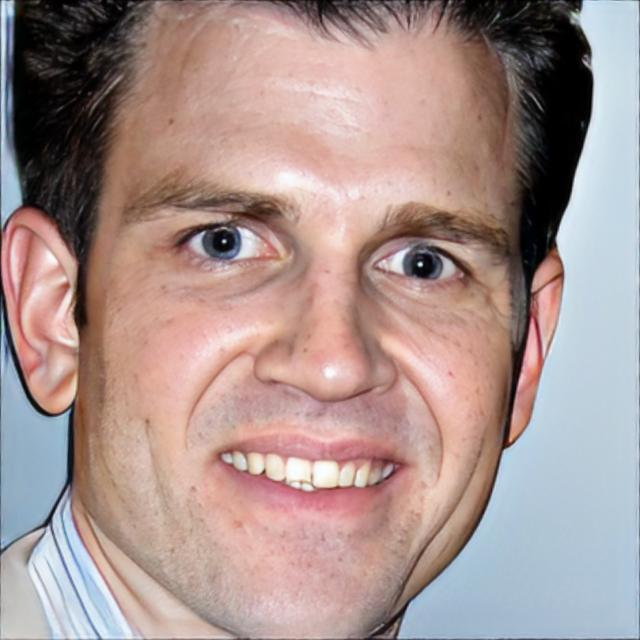disgust: (78, 0, 514, 640)
